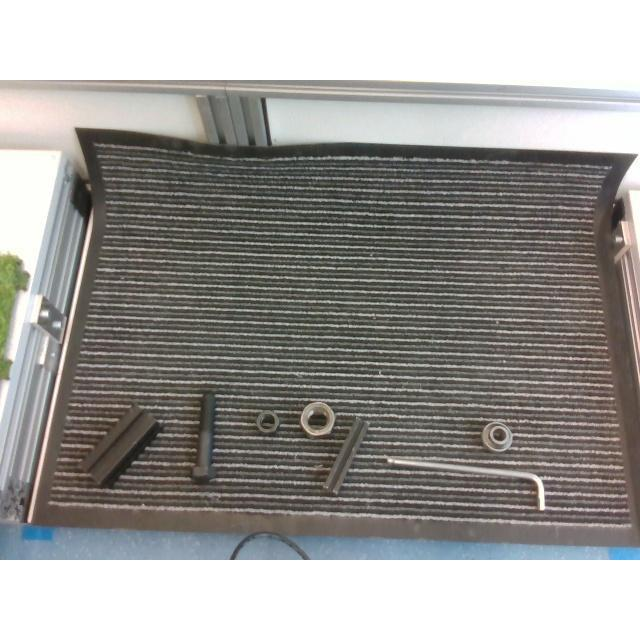AllenKey: (386, 455, 546, 513)
Bearing2: (482, 421, 512, 451)
F20_20_B: (322, 417, 371, 495)
M20: (256, 409, 280, 436)
M20_100: (192, 390, 216, 482)
M30: (300, 400, 336, 438)
S40_40_B: (80, 404, 164, 488)
